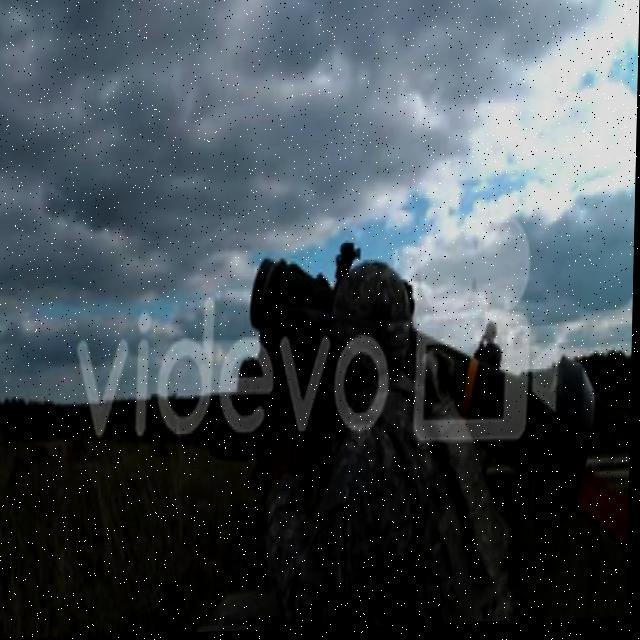rocket: (252, 250, 596, 515)
